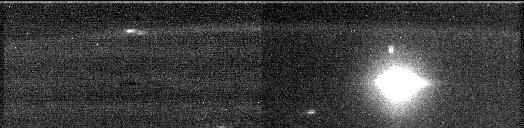positive: (384, 44, 397, 55)
